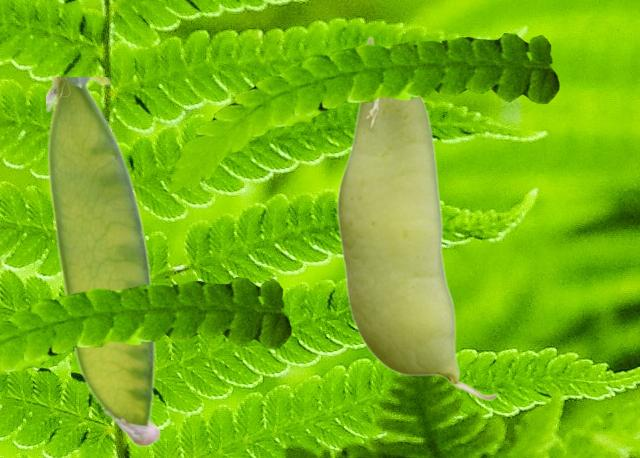pea: (335, 36, 498, 400), (46, 77, 160, 445)
